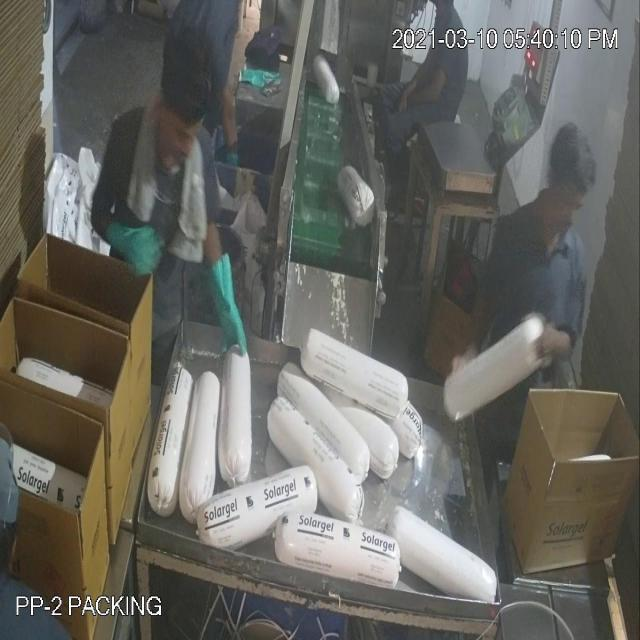Gloves: (56, 57, 423, 314)
